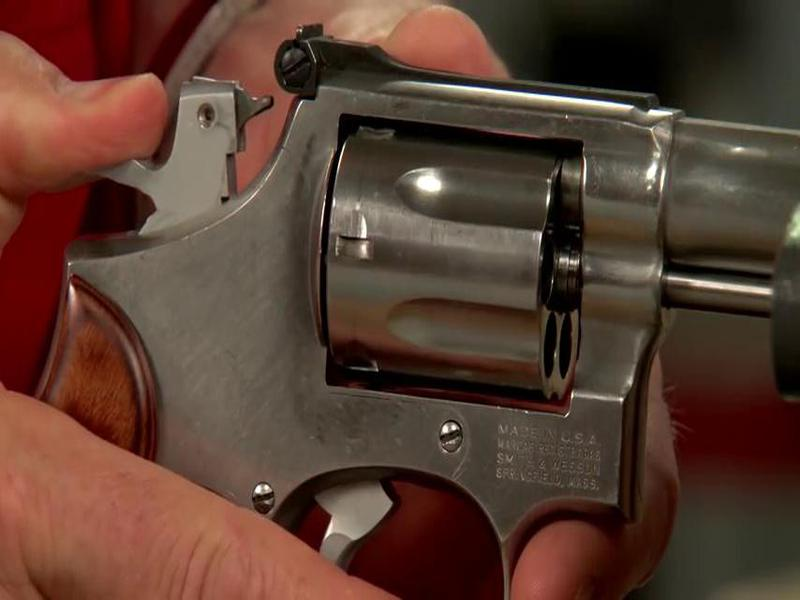Revolver: (34, 14, 800, 536)
